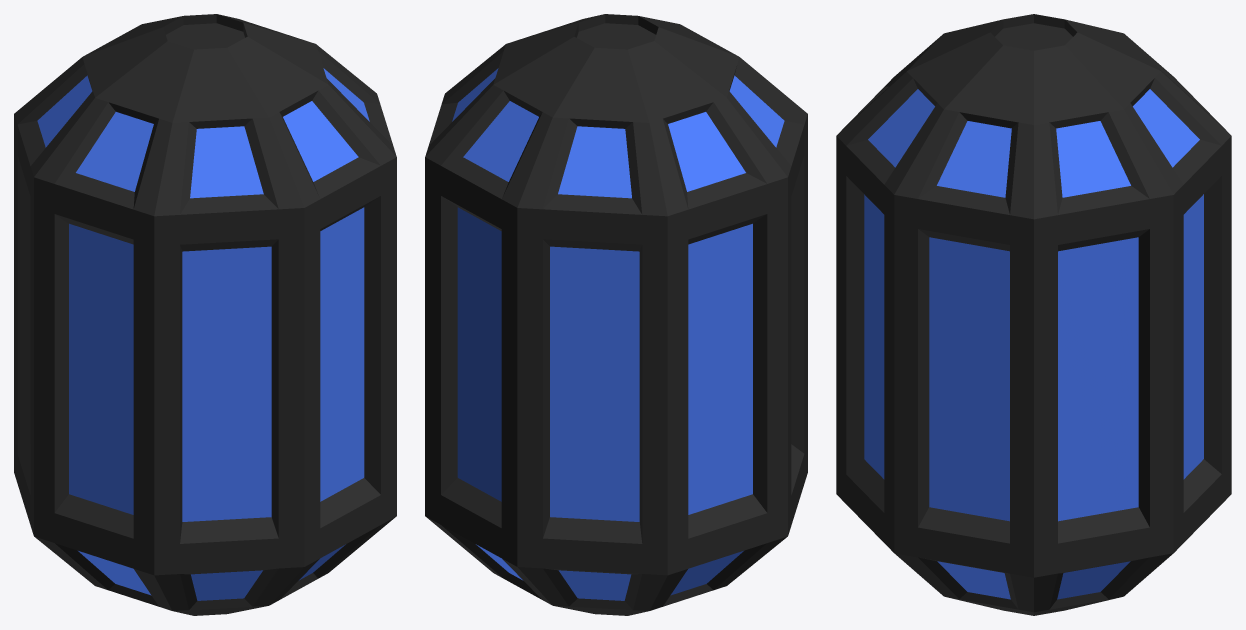
File: lamp.fbx
The picture shows the model from 3 angles, left to right: view 1: azimuth 30°, elevation 25°; view 2: azimuth 150°, elevation 25°; view 3: azimuth 270°, elevation 25°; orthographic projection.
Visible parts, largest first — view 1: Cylinder; view 2: Cylinder; view 3: Cylinder.
Boxes of the visible parts, x1,y1,x2,y2 form: Cylinder: (14,14,396,615); Cylinder: (425,14,807,615); Cylinder: (836,14,1231,615).
Bounding box in the file's own units: 200 × 315 × 200.
